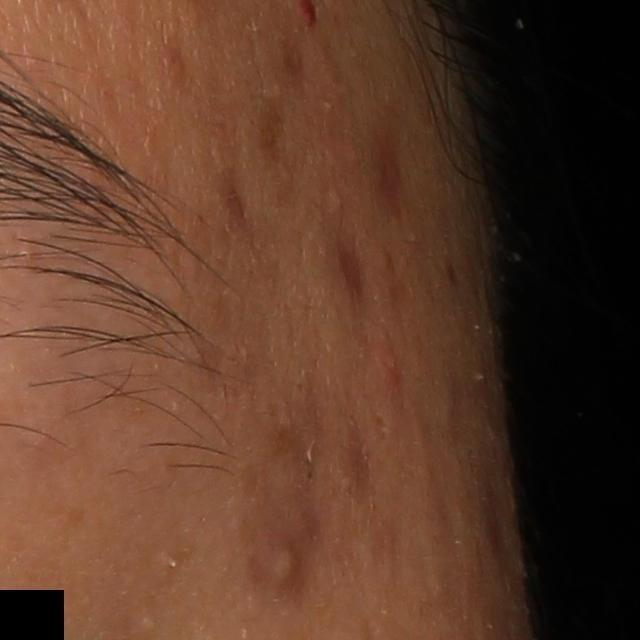comedo: (135, 609, 160, 638)
